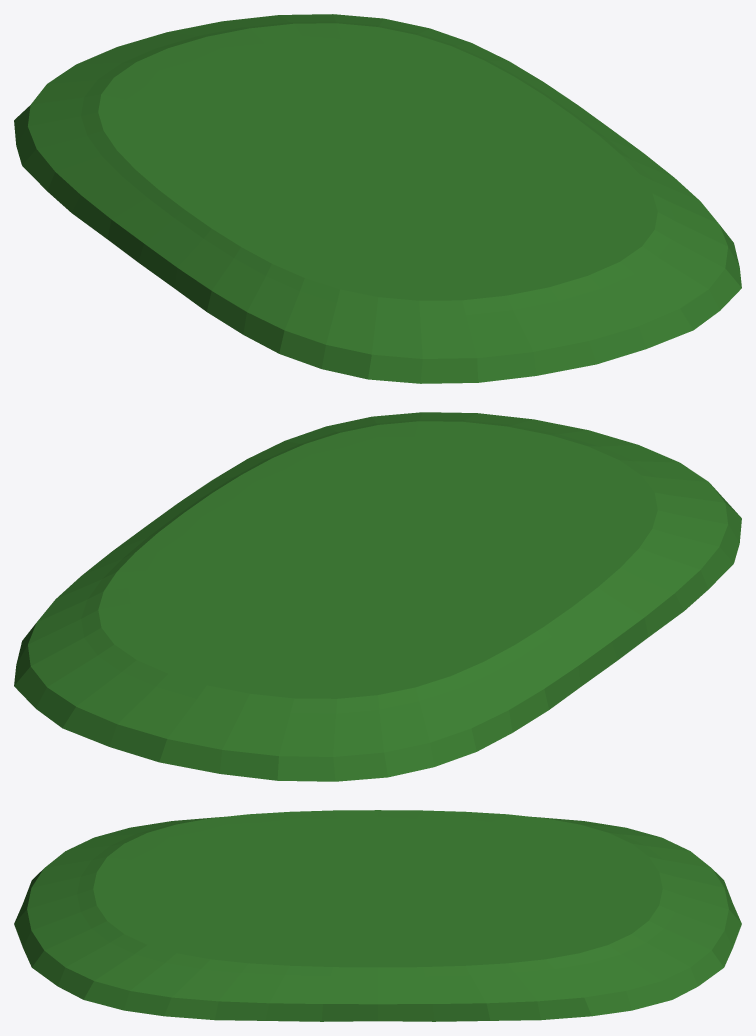
The model's file is SM_Env_RoadEdge_Green_04.fbx.
3 renders of one model, top to bottom at view 1: azimuth 30°, elevation 25°; view 2: azimuth 150°, elevation 25°; view 3: azimuth 270°, elevation 25°, orthographic. The views are drawn at different scales.
Visible parts, largest first — view 1: SM_Env_RoadEdge_Green_04; view 2: SM_Env_RoadEdge_Green_04; view 3: SM_Env_RoadEdge_Green_04.
Boxes of the visible parts, box(x1,y1,x2,y2) form: SM_Env_RoadEdge_Green_04: box(14, 14, 741, 383); SM_Env_RoadEdge_Green_04: box(14, 412, 741, 781); SM_Env_RoadEdge_Green_04: box(14, 810, 741, 1021).
Size of the model in its own units: 3741 by 359 by 5921.
